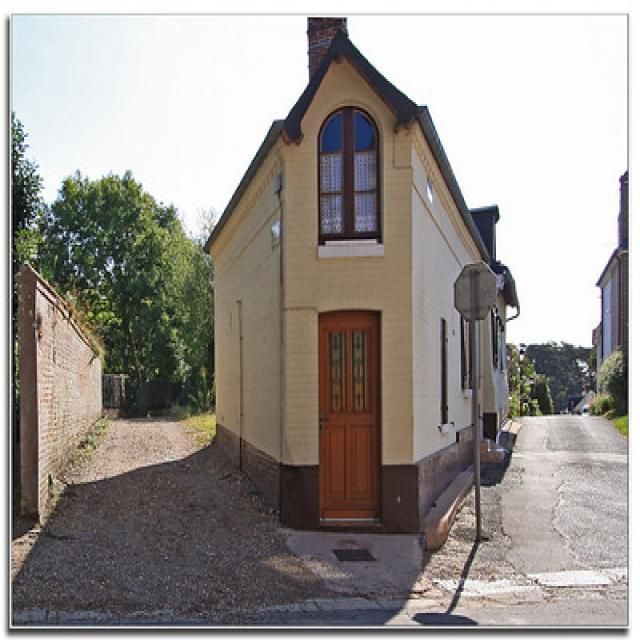Normal_building: (203, 34, 517, 535)
